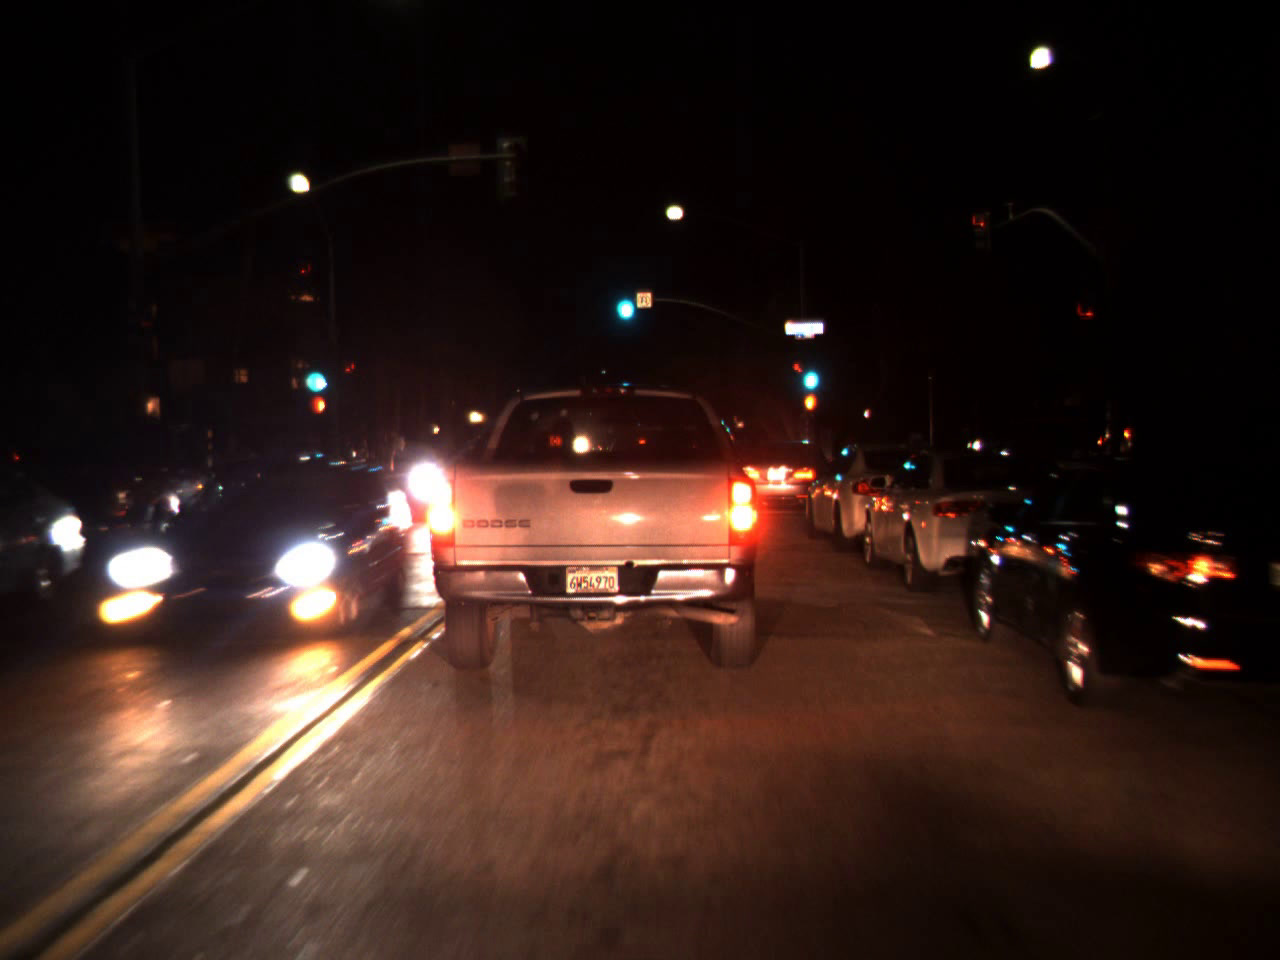go: (298, 348, 330, 399), (610, 275, 638, 326), (797, 346, 822, 397)
